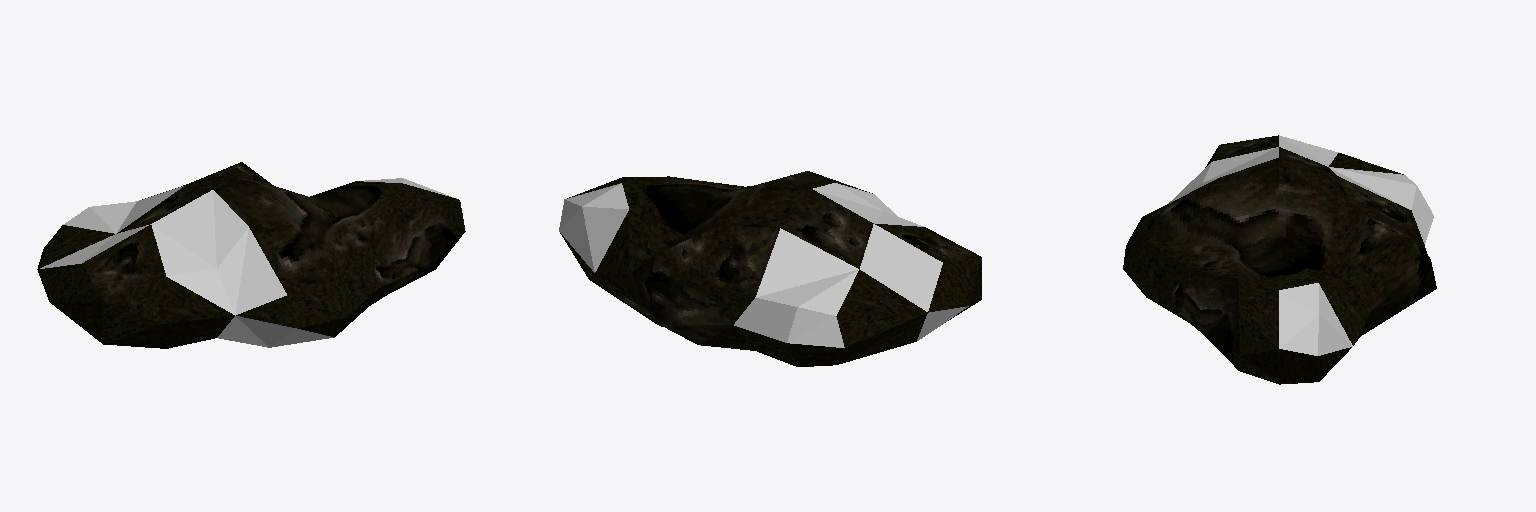
The picture shows the model from 3 angles: view 1: azimuth 30°, elevation 25°; view 2: azimuth 150°, elevation 25°; view 3: azimuth 270°, elevation 25°; orthographic projection.
Visible parts, largest first — view 1: Object_0; view 2: Object_0; view 3: Object_0.
Part boxes in pixels (bbox=[...]): Object_0: bbox=[37, 162, 465, 348]; Object_0: bbox=[559, 171, 981, 366]; Object_0: bbox=[1123, 135, 1436, 384].
Size of the model in its own units: 173792 by 63080 by 115976.
Materials: 5 (4 with a texture image).